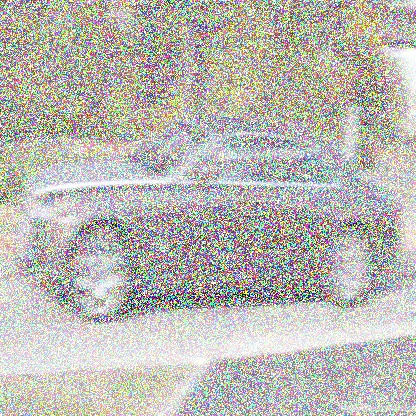Vehicle: (13, 114, 400, 325)
